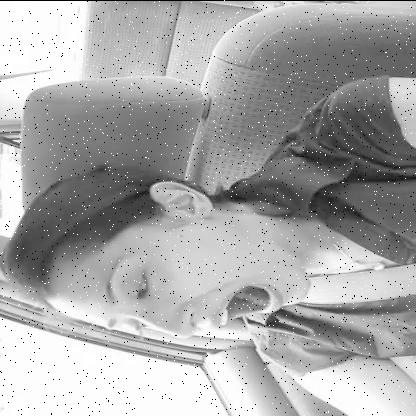seatbelt: (6, 166, 416, 349)
